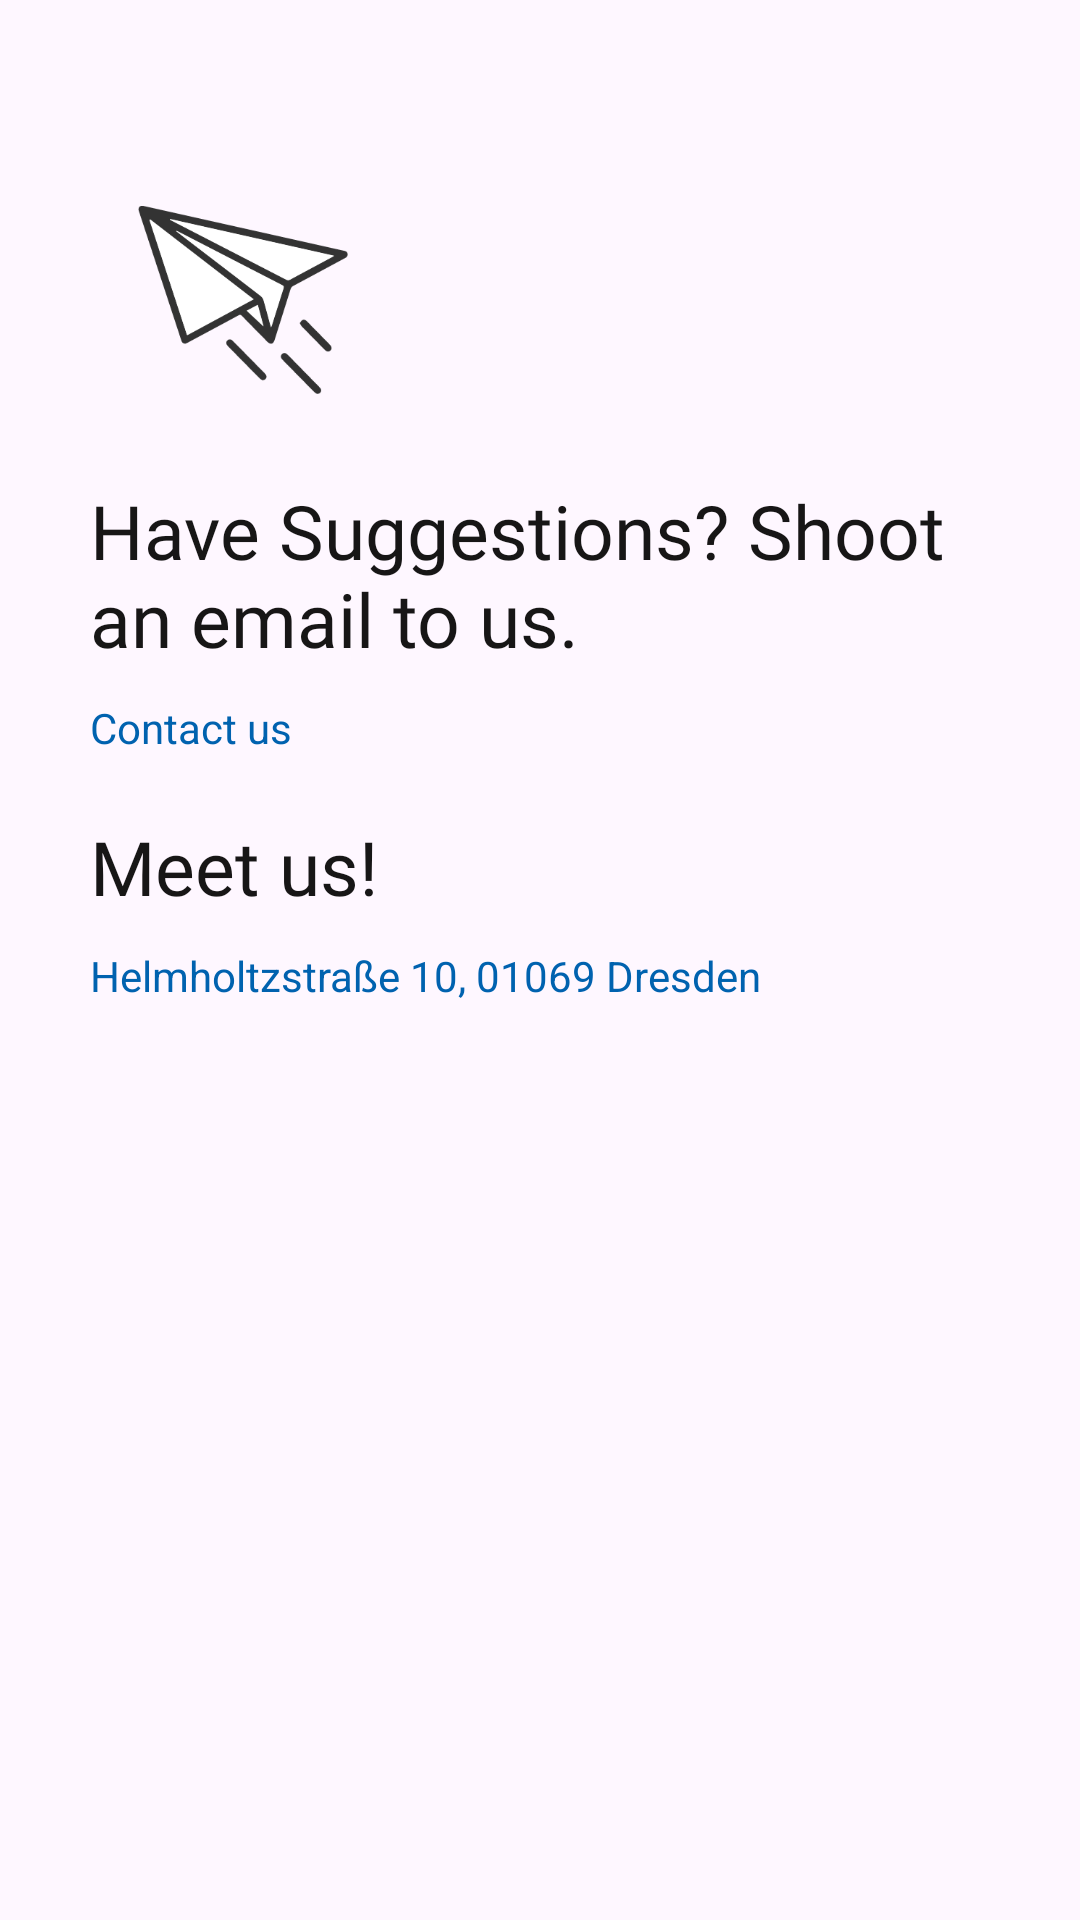

Icon bounding boxes for this 1080 × 1920 phone screenshot, format box=[x1, y1, x2, y2]:
message: box=[138, 206, 348, 394]
